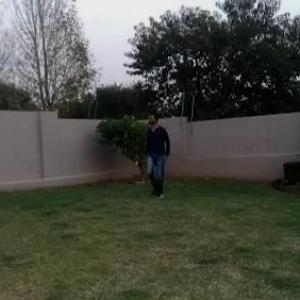follow: (144, 107, 172, 198)
